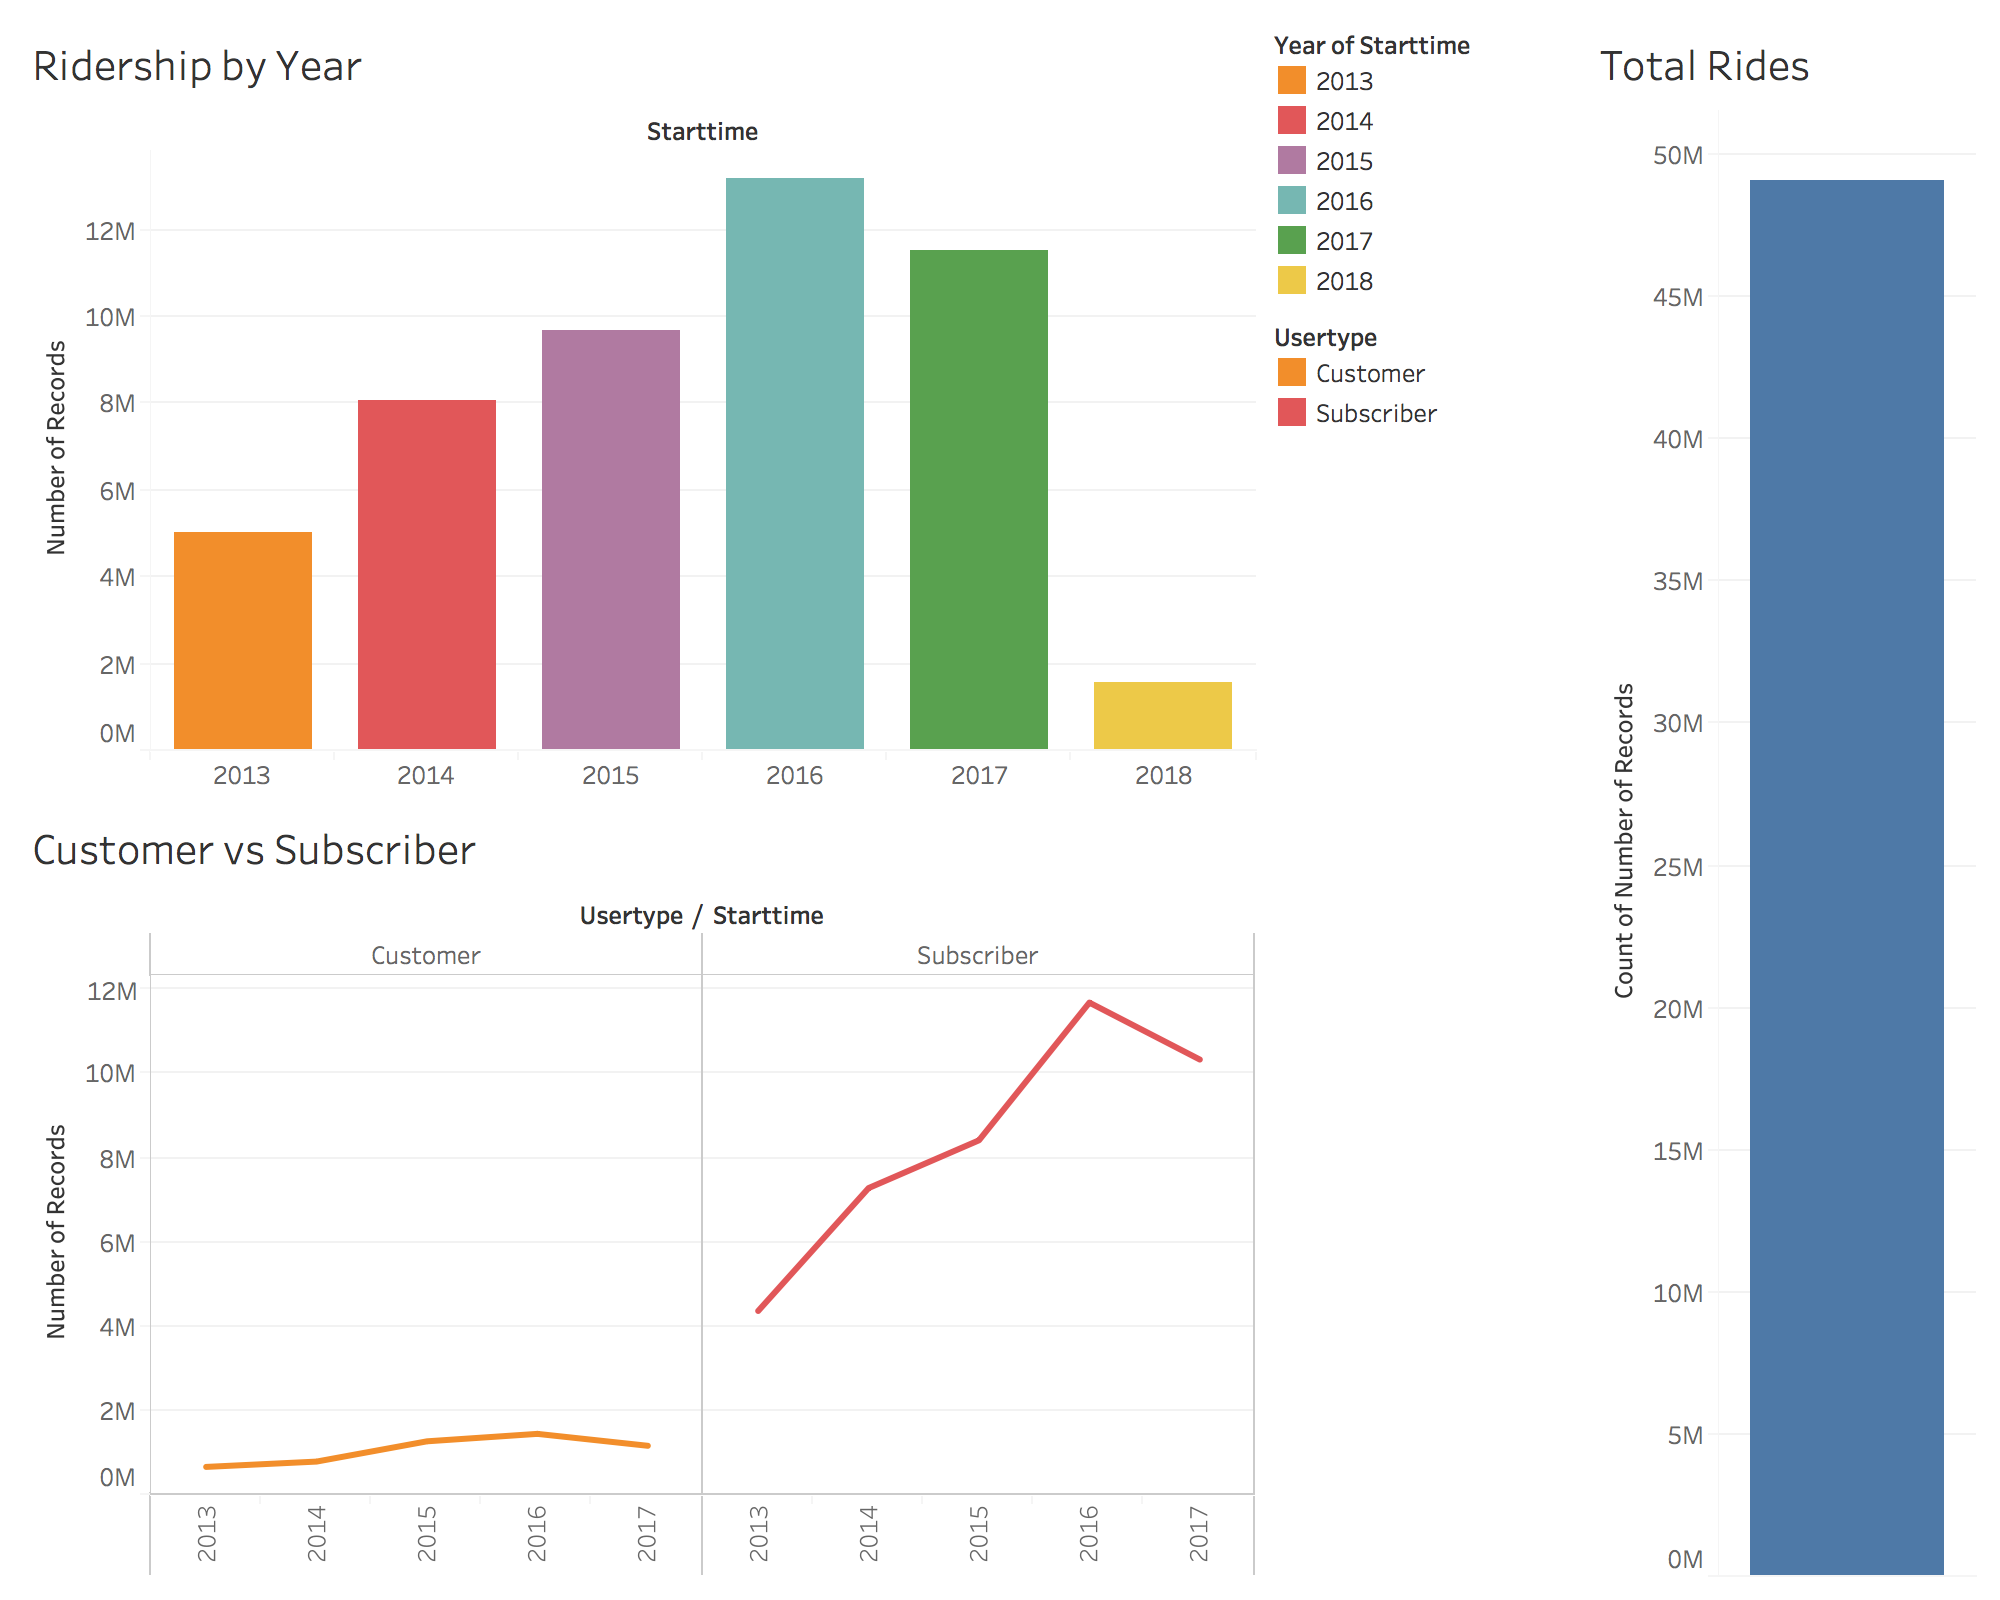

The page's visual inventory and layout, read from the dashboard file:
{"tool":"tableau","page":{"name":"Trips Data","canvas":[1000,800],"ordinal":5},"visuals":[{"type":"worksheet","title":"Ridership by Year","mark":"Bar","rows":["Number of Records"],"cols":["starttime"],"box":[8,8,624,392]},{"type":"legend","title":"Ridership by Year","param":"[federated.0x51q6s12otagk0zydfru00vy6tf].[yr:starttime:ok]","box":[632,8,160,146]},{"type":"worksheet","title":"Total Rides","mark":"Automatic","rows":["Number of Records"],"box":[792,8,200,784]},{"type":"legend","title":"Customer vs Subscriber","param":"[federated.0x51q6s12otagk0zydfru00vy6tf].[none:usertype:nk]","box":[632,154,160,66]},{"type":"worksheet","title":"Customer vs Subscriber","mark":"Automatic","rows":["Number of Records"],"cols":["usertype","starttime"],"box":[8,400,624,392]}]}

Visuals, with their boxes in screenshot pixels (x1, y1, x2, y2), scaled from the page's 1000x800 canvas onto the 2000x1600 screenshot:
"Ridership by Year" worksheet (Bar marks): select_region(16, 16, 1264, 800)
"Ridership by Year" legend: select_region(1264, 16, 1584, 308)
"Total Rides" worksheet: select_region(1584, 16, 1984, 1584)
"Customer vs Subscriber" legend: select_region(1264, 308, 1584, 440)
"Customer vs Subscriber" worksheet: select_region(16, 800, 1264, 1584)
